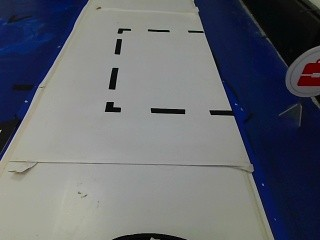company: (283, 46, 319, 99)
